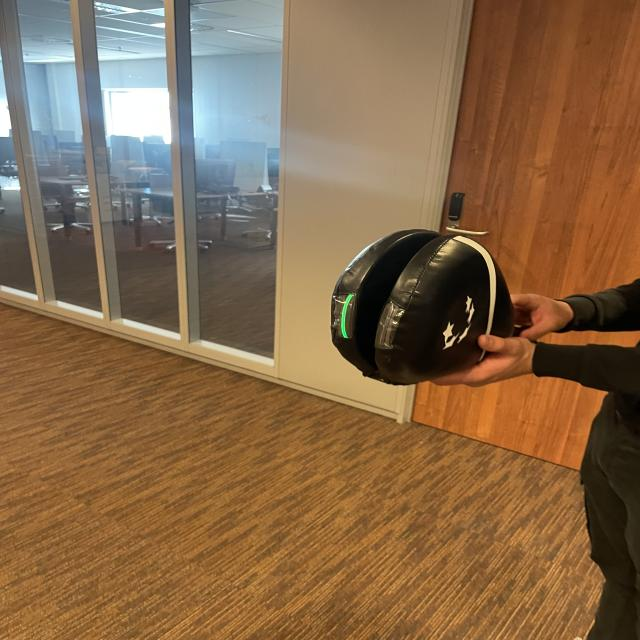paddle: (352, 250, 505, 373)
trigger: (338, 293, 356, 339)
